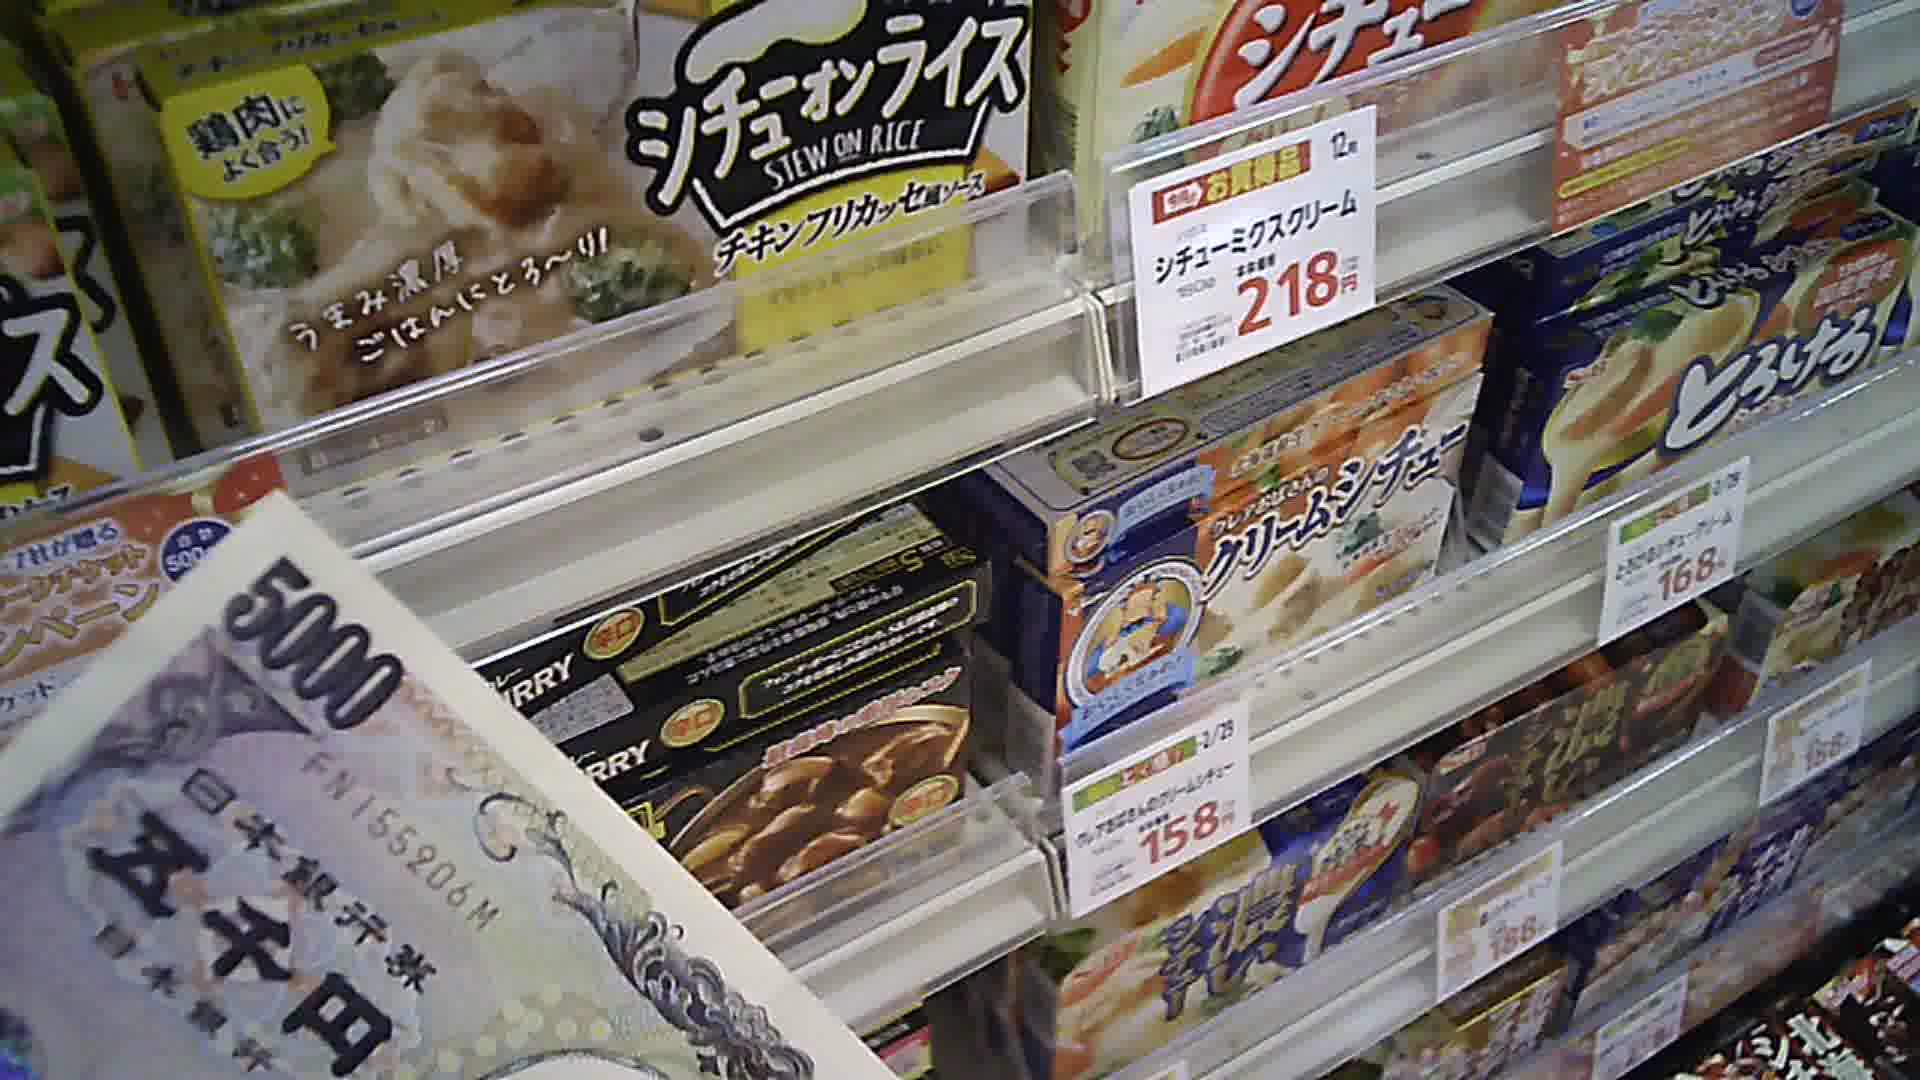5,000 Yen: (9, 468, 852, 1079)
